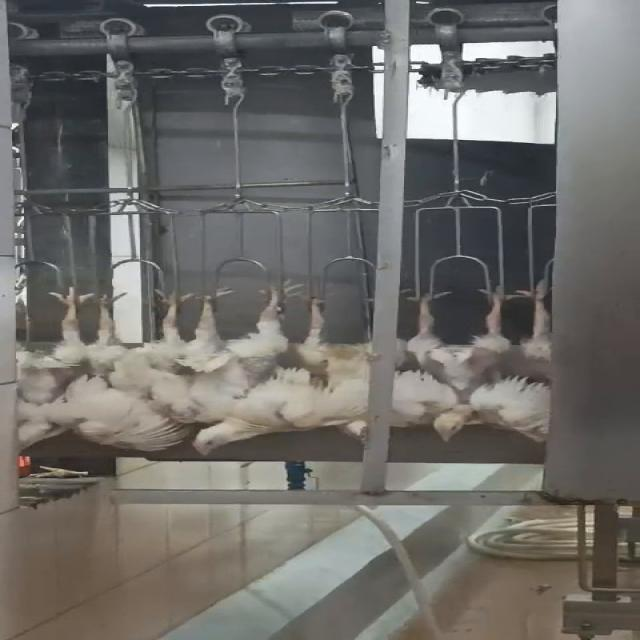chicken: (176, 273, 299, 462), (74, 286, 202, 454), (397, 280, 518, 442), (0, 289, 112, 452), (484, 260, 566, 443), (295, 282, 389, 438)
